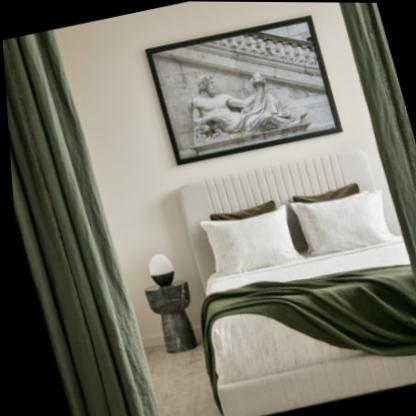Bed: (167, 142, 416, 416)
Curtains: (2, 29, 156, 416), (340, 2, 416, 293)
Frame: (144, 15, 341, 166)
